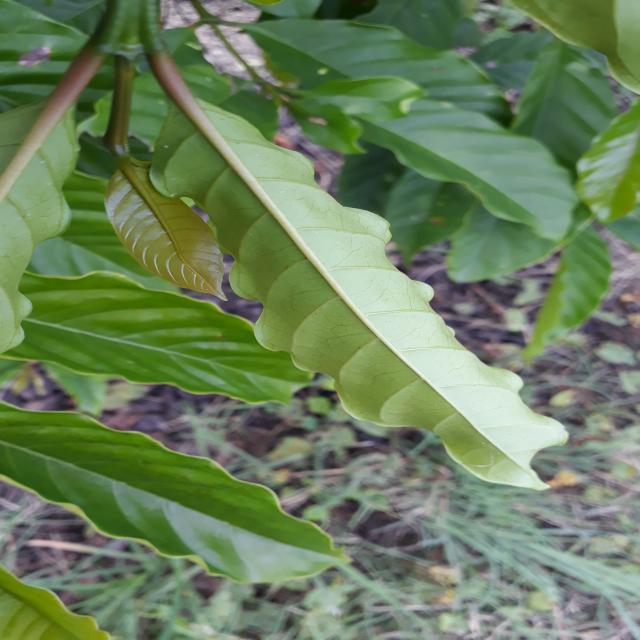Sanas: (147, 52, 571, 493)
